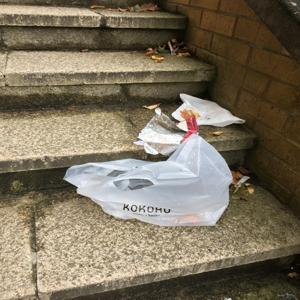cardboard: (137, 114, 208, 162)
plastic: (67, 138, 234, 235), (175, 93, 246, 133)
